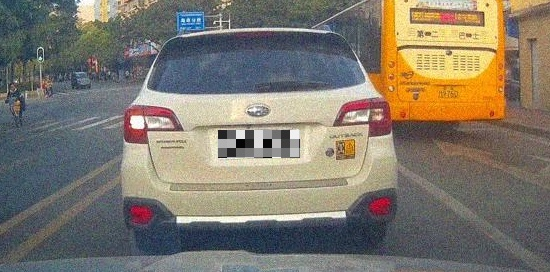L_light: (123, 104, 184, 144)
R_light: (332, 96, 392, 137)
T_light: (234, 31, 274, 36)
day-left: (120, 26, 399, 247)
plate_1: (218, 130, 300, 158)
